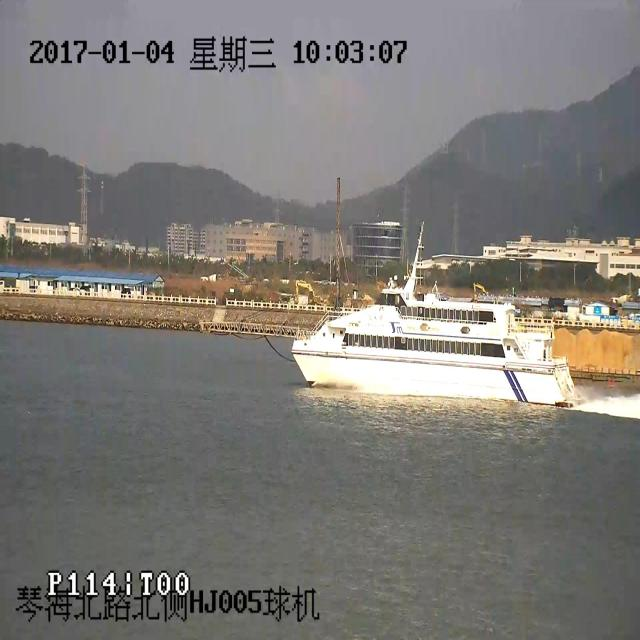passenger ship: (292, 224, 580, 415)
